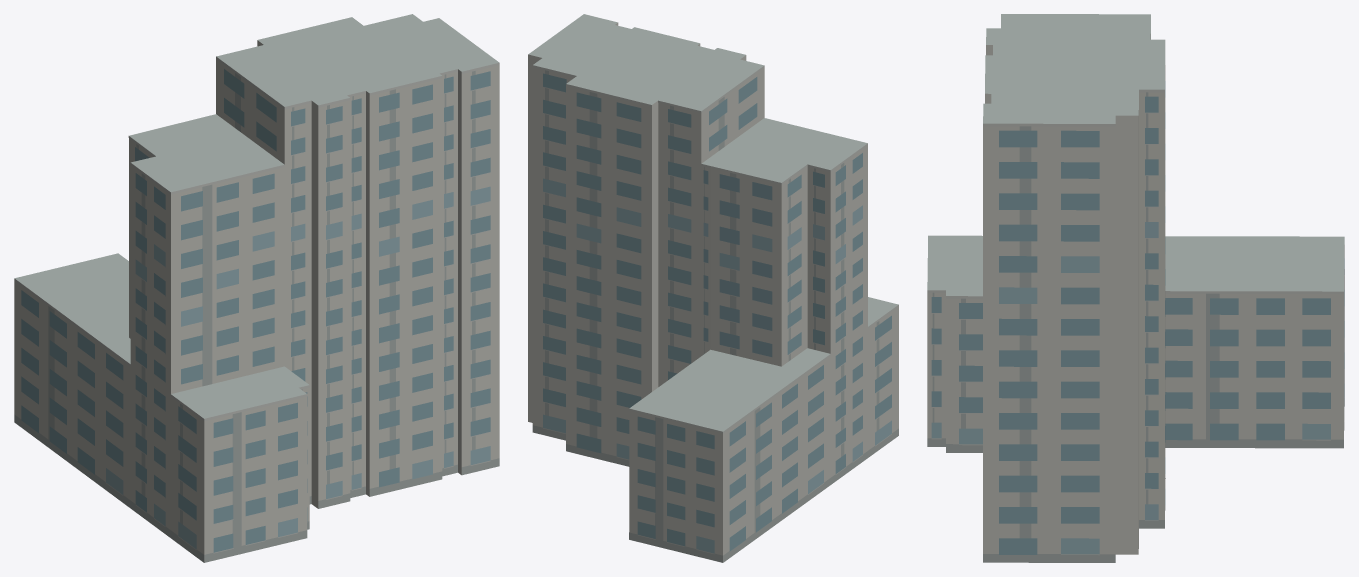
File: residential-b6ff6e85-4801-4bde-967c-2bbb819bc168.glb
3 views of the same model, side by side, from view 1: azimuth 30°, elevation 25°; view 2: azimuth 150°, elevation 25°; view 3: azimuth 270°, elevation 25° (orthographic). The views are drawn at different scales.
Visible parts, largest first — view 1: residential-b6ff6e85-4801-4bde-967c-2bbb819bc168.tmp; view 2: residential-b6ff6e85-4801-4bde-967c-2bbb819bc168.tmp; view 3: residential-b6ff6e85-4801-4bde-967c-2bbb819bc168.tmp.
Boxes of the visible parts, bbox=[...] form: residential-b6ff6e85-4801-4bde-967c-2bbb819bc168.tmp: bbox=[14, 14, 499, 562]; residential-b6ff6e85-4801-4bde-967c-2bbb819bc168.tmp: bbox=[528, 14, 898, 562]; residential-b6ff6e85-4801-4bde-967c-2bbb819bc168.tmp: bbox=[927, 14, 1344, 562].
Size of the model in its own units: 35.57 by 42.7 by 36.8.
